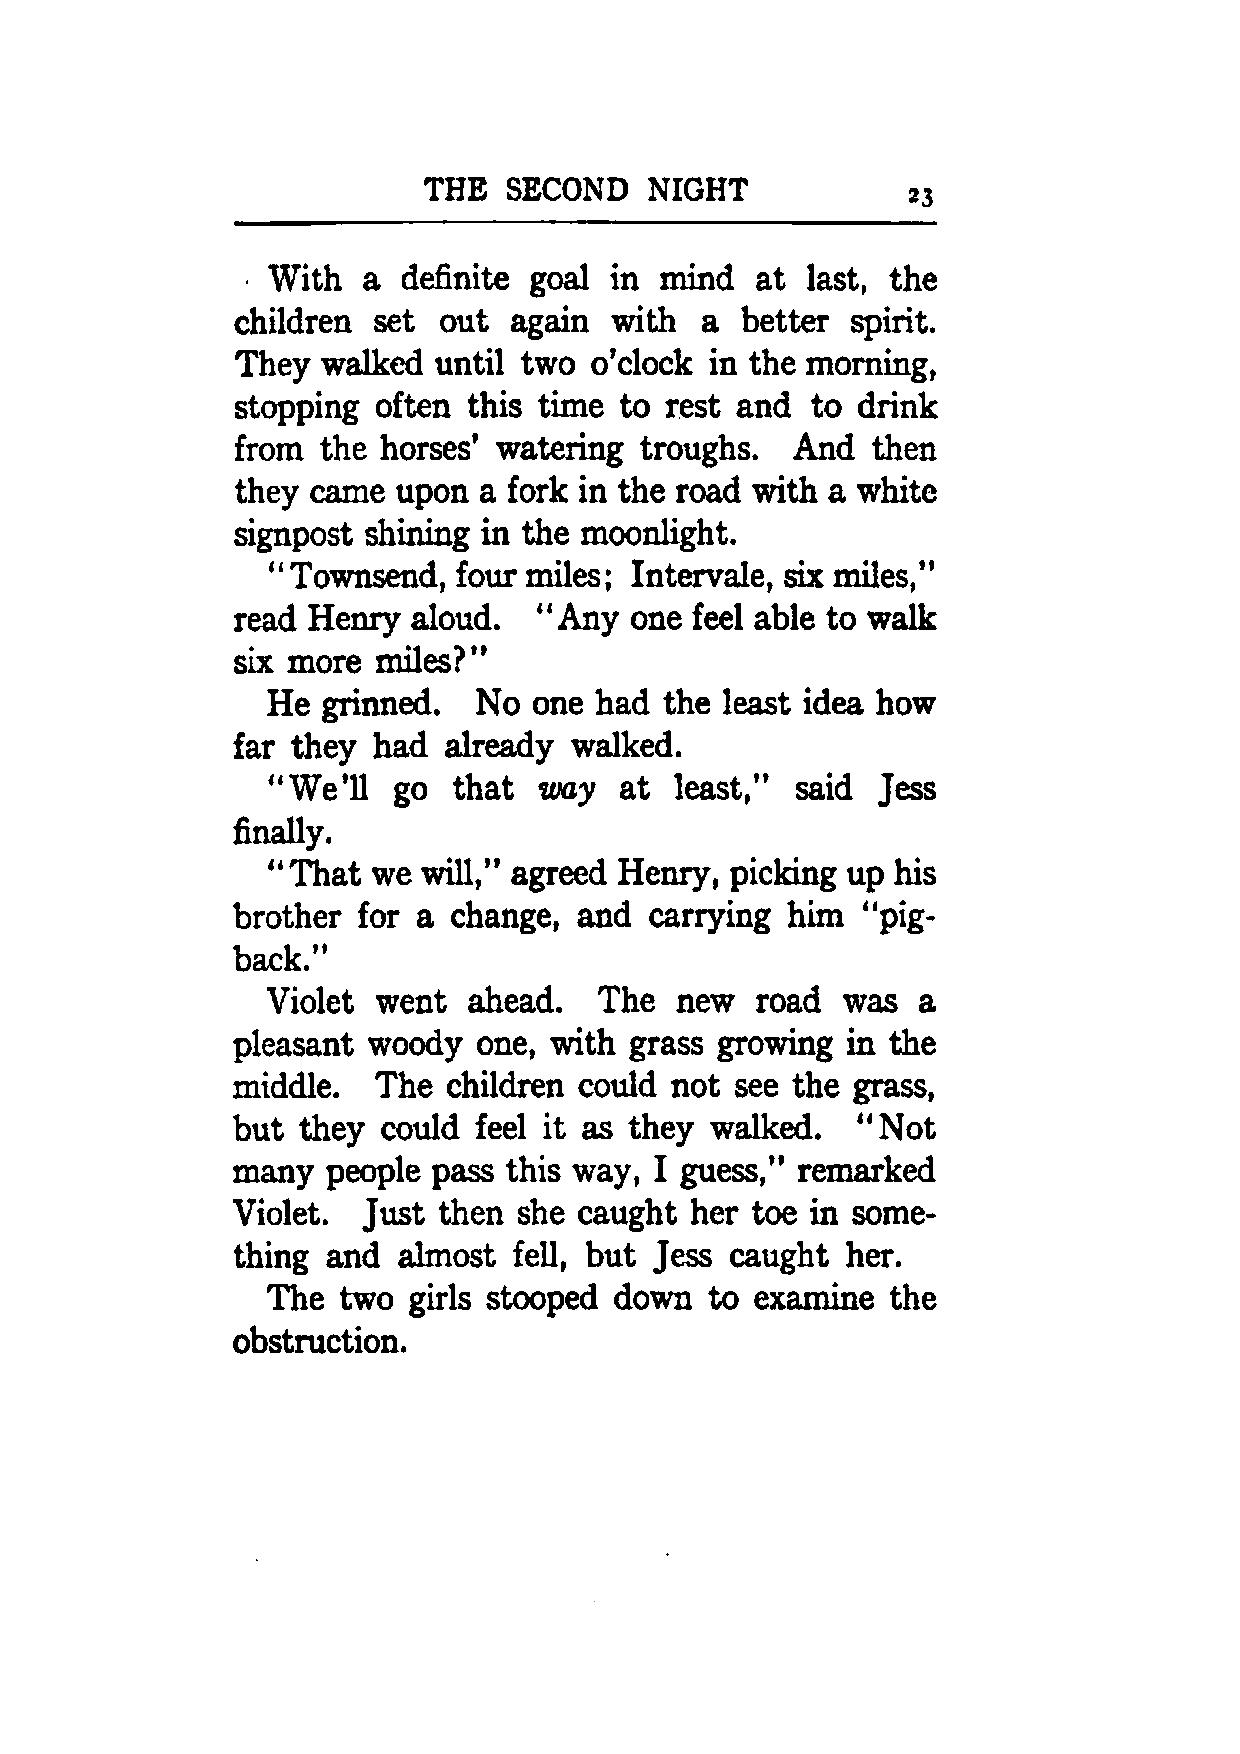content: (225, 256, 939, 1358)
content_chapter: (419, 169, 747, 208)
content_pagenumber: (903, 178, 935, 209)
